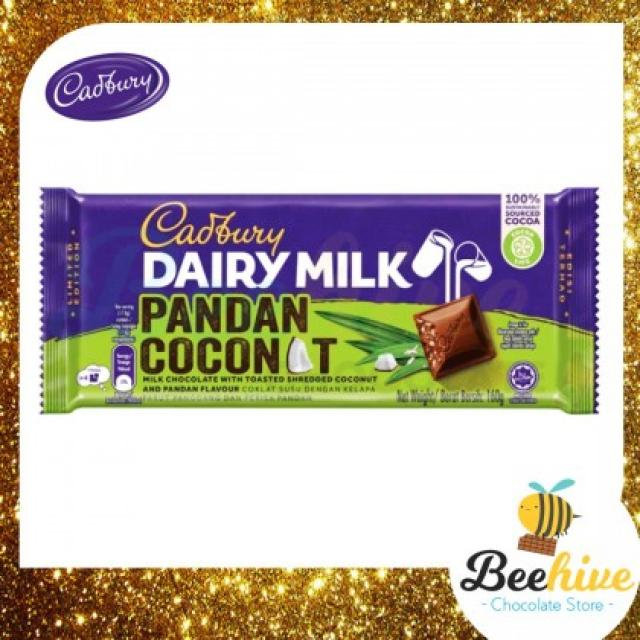cadbury: (41, 189, 600, 417)
